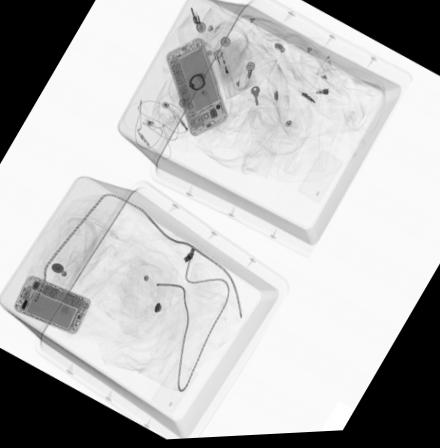Lighter: (209, 48, 235, 101)
